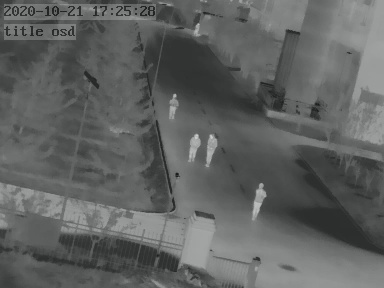person: (204, 131, 219, 168), (251, 181, 265, 218), (188, 132, 202, 166), (166, 92, 178, 120), (193, 22, 200, 37)
